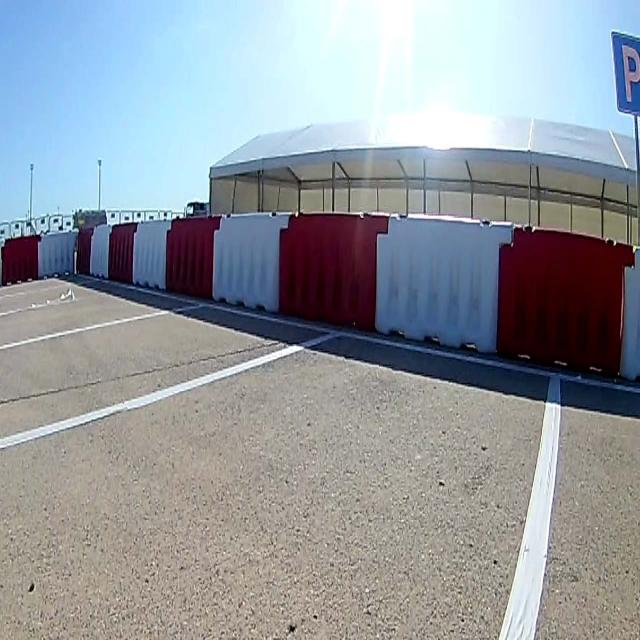park: (614, 34, 640, 108)
